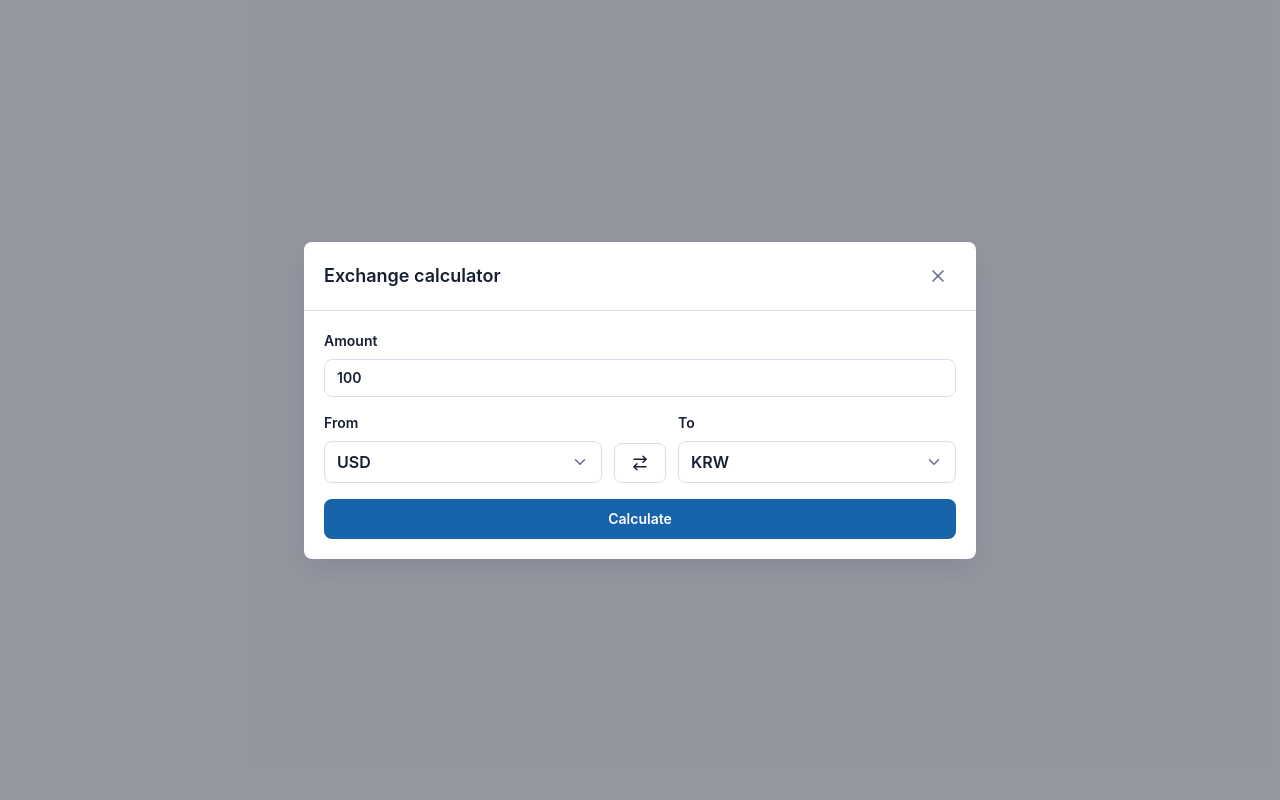
it: ExchangeCalculatorModal › validates zero amount
Replace the text in the number field labelled "Amount" with "0" at (640,378), box [324, 358, 956, 396]
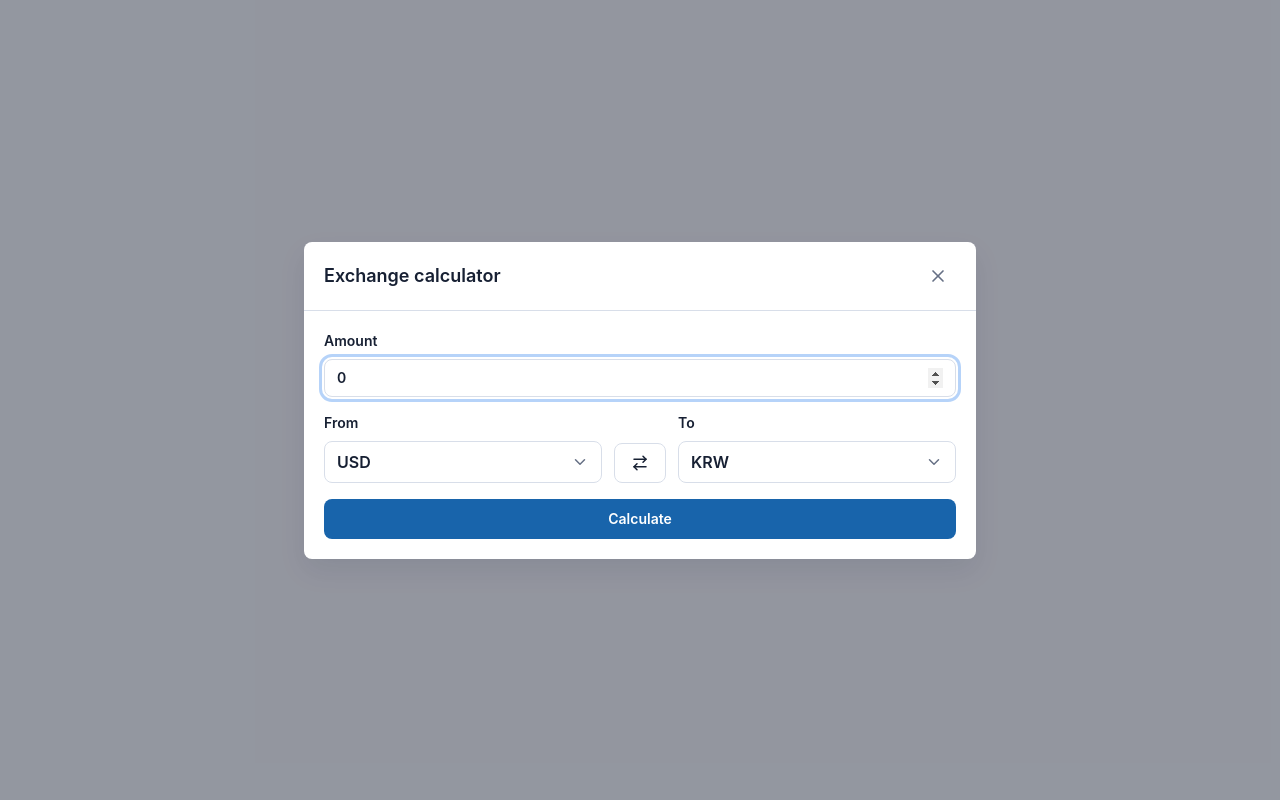
Click the button "Calculate" at (640,518), box [324, 498, 956, 538]
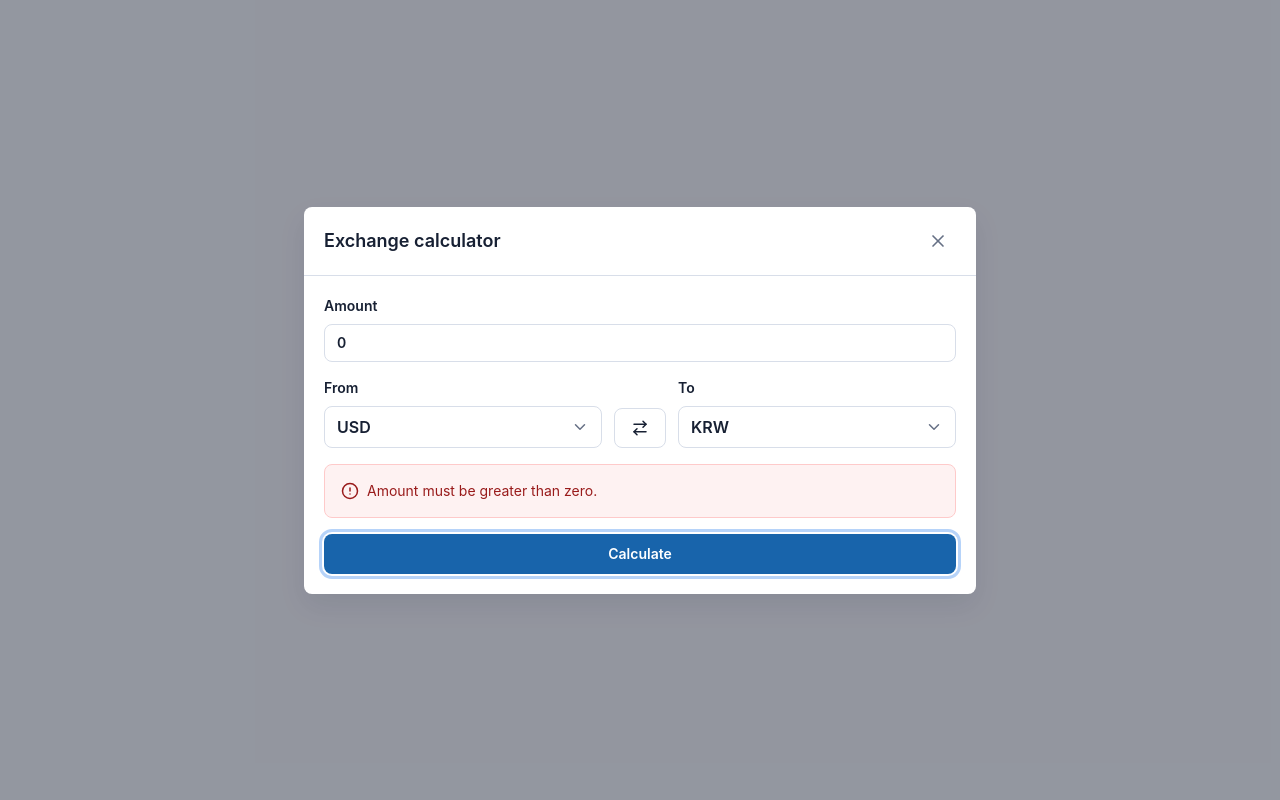
Expected: the text "Amount must be greater than zero." is shown, [367, 480, 597, 500]
